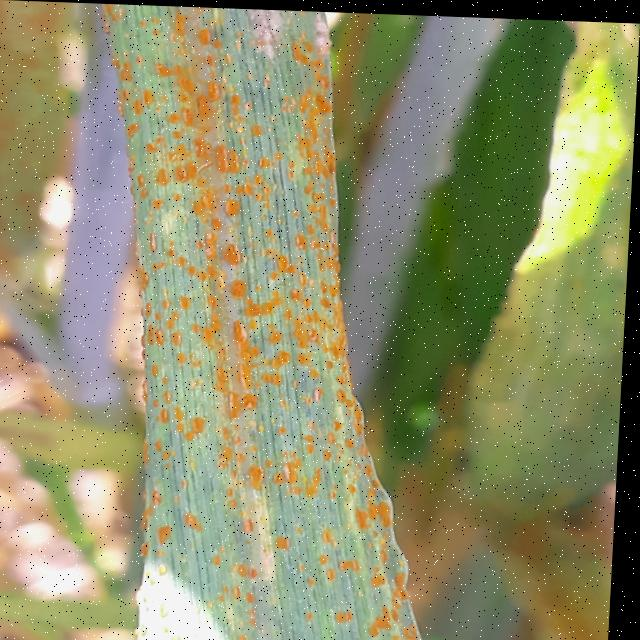orang_rust: (76, 3, 468, 640)
